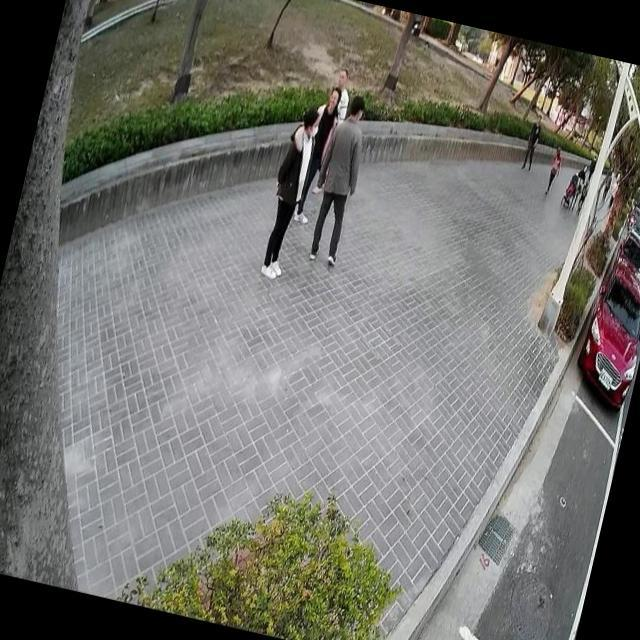person: (297, 86, 380, 271), (250, 97, 326, 282), (288, 77, 346, 229), (308, 62, 358, 198), (519, 110, 546, 173), (540, 143, 565, 200)
